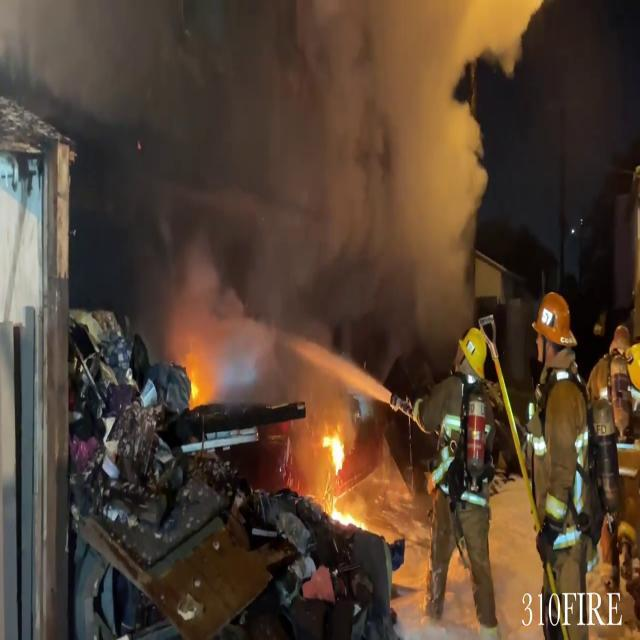Fire: (318, 426, 349, 476), (186, 368, 204, 416)
Smoke: (156, 0, 514, 337)
